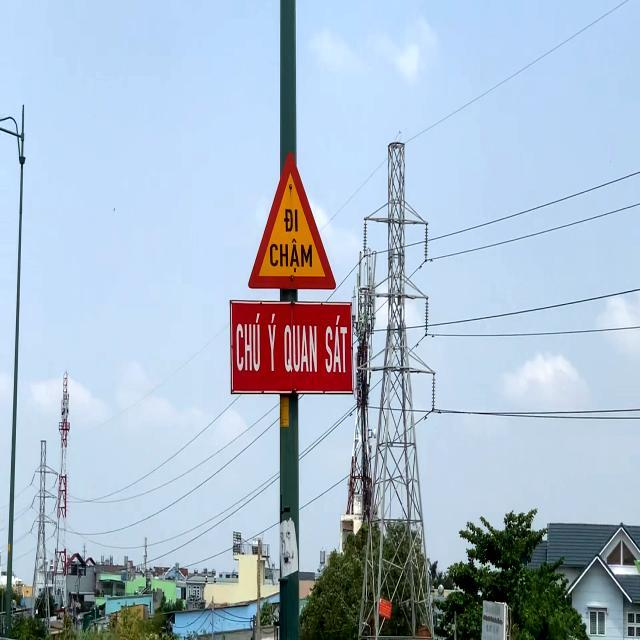W-245a: (248, 150, 334, 291)
